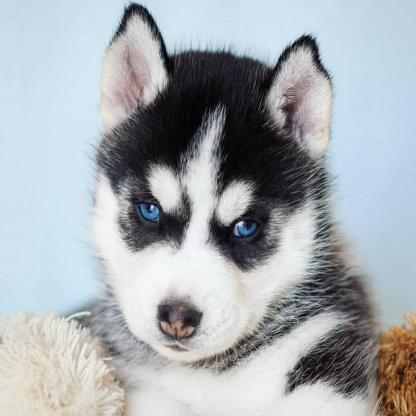husky: (88, 4, 378, 416)
